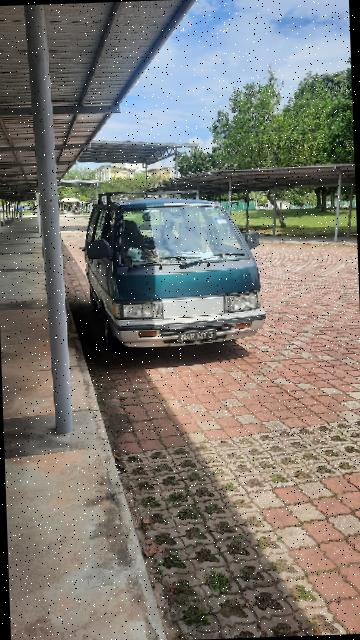License_Plate: (176, 329, 220, 345)
van: (81, 186, 272, 355)
